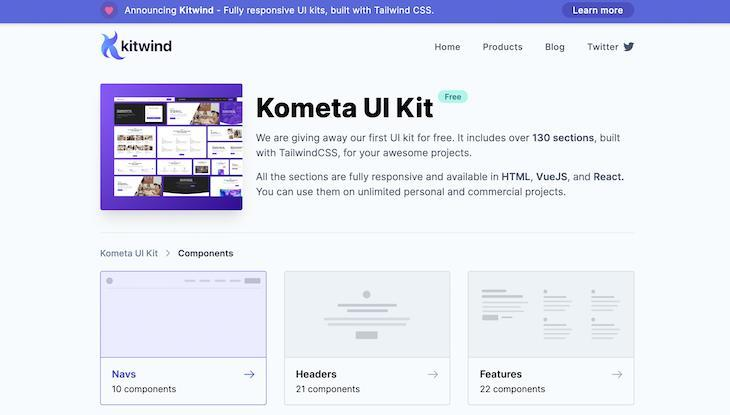button: (562, 3, 636, 20)
label: (256, 95, 435, 124), (124, 6, 437, 18), (118, 41, 175, 54), (175, 251, 237, 259), (483, 43, 524, 53), (587, 43, 621, 52), (434, 43, 463, 53), (546, 43, 567, 54)
